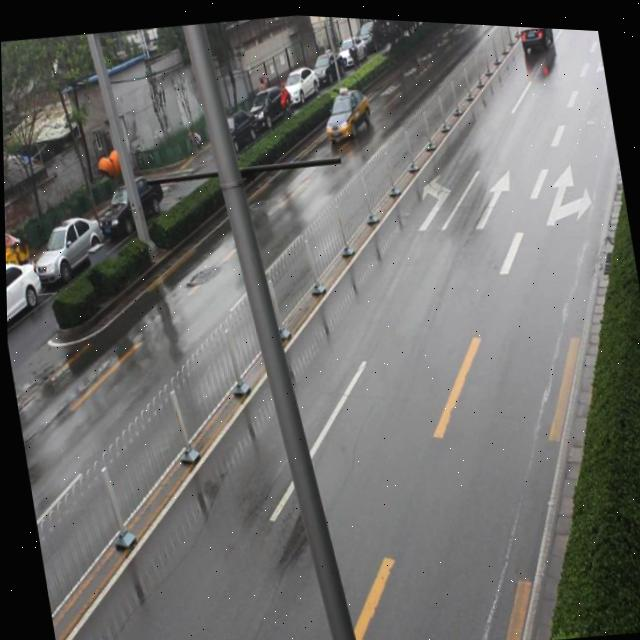car: (319, 76, 374, 150), (512, 21, 554, 51)
